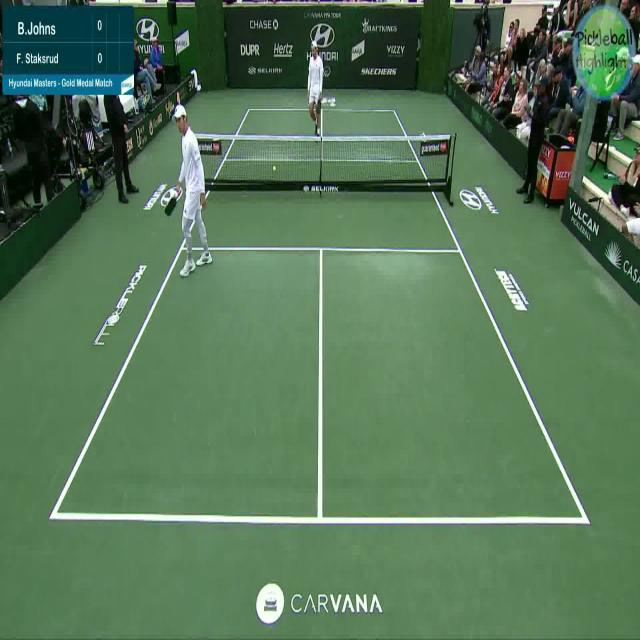ball: (271, 162, 280, 176)
